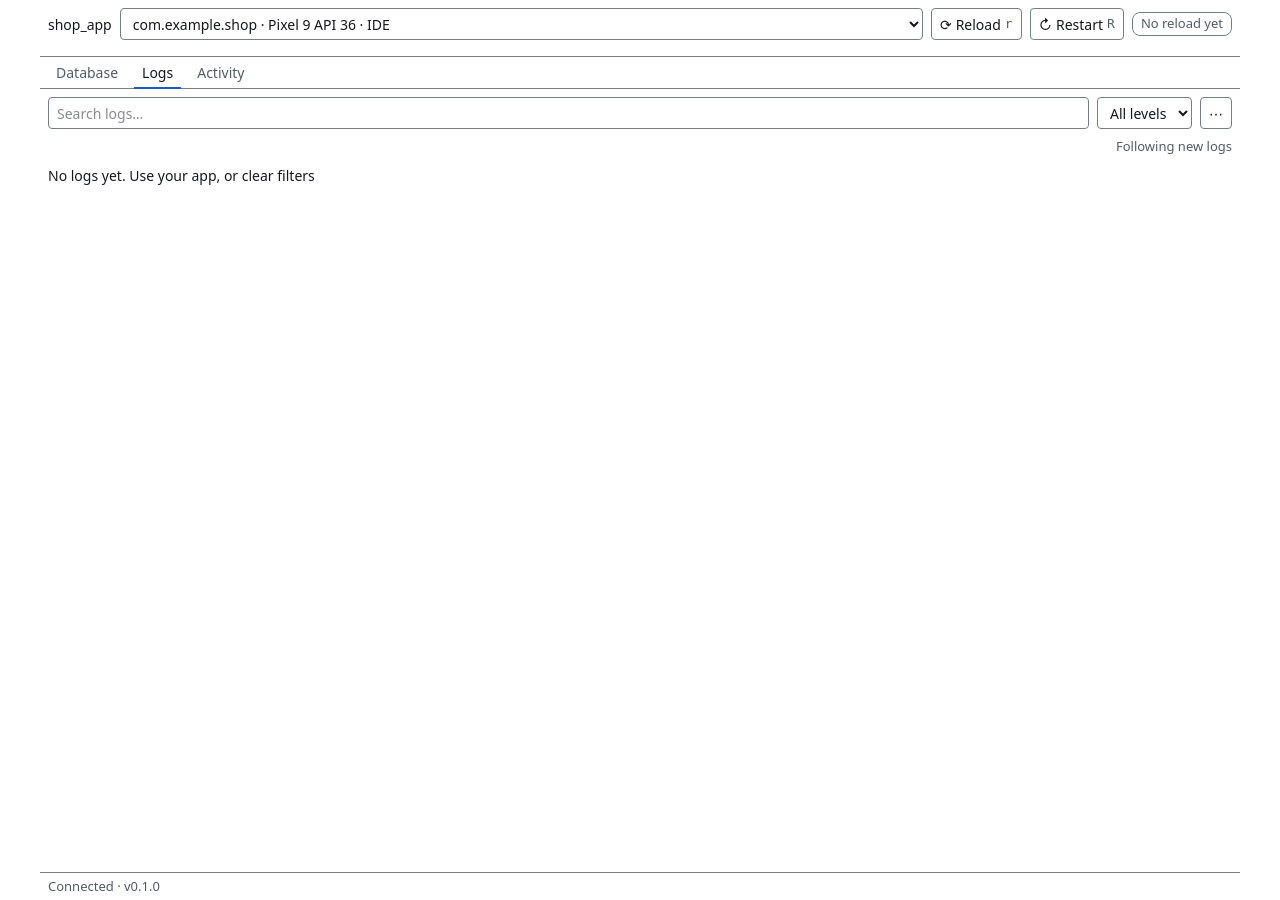
a daemon restart while a reload is in flight › a late success from before the restart still counts
Check: the text "shop_app" is shown, box 48,14 -> 112,34
Click the button "⟳ Reload r" at (976, 24), box 931,8 -> 1022,40
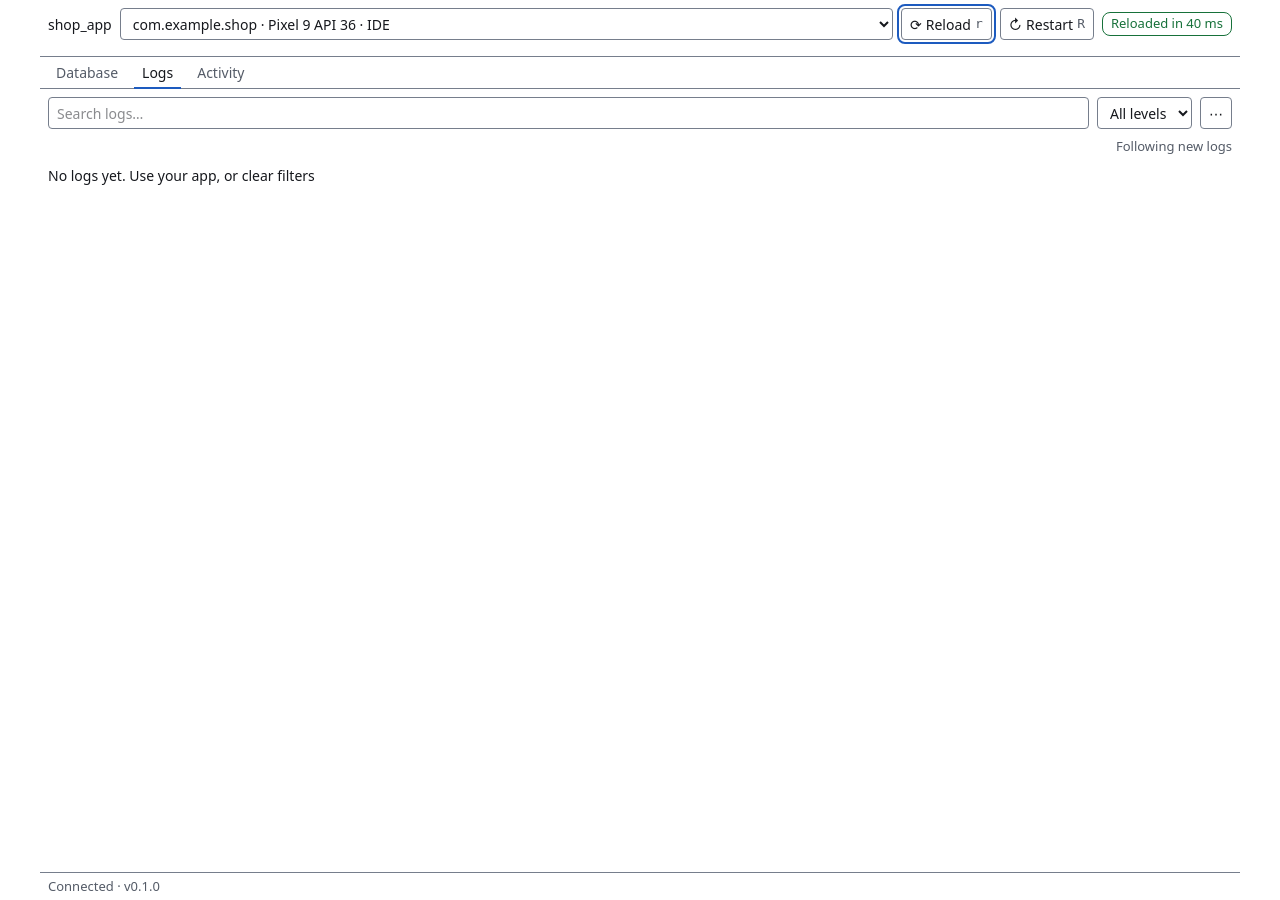
Check: the text "Reloaded in 40 ms" is shown, box 1102,12 -> 1232,36
